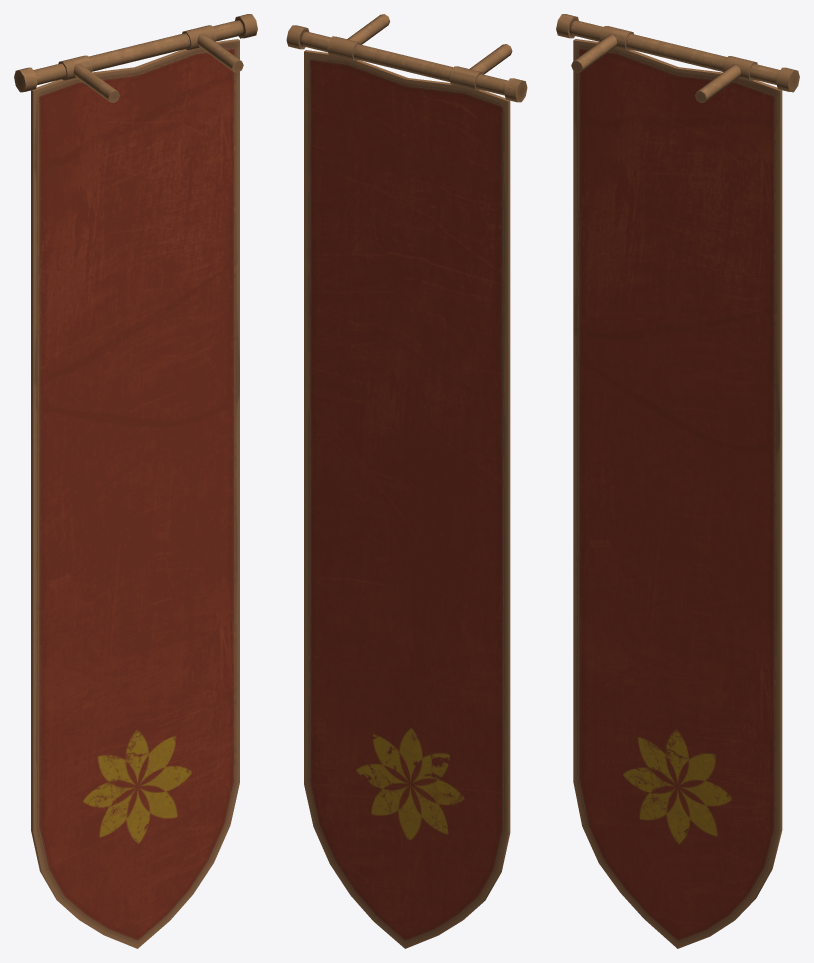
Rendered from ARC0510108.fbx.
3 views of the same model, side by side, from view 1: azimuth 30°, elevation 25°; view 2: azimuth 150°, elevation 25°; view 3: azimuth 330°, elevation 25° (orthographic).
Visible parts, largest first — view 1: smARC0510108; view 2: smARC0510108; view 3: smARC0510108.
Boxes of the visible parts, x1=… form: smARC0510108: x1=14, y1=14, x2=257, y2=948; smARC0510108: x1=286, y1=14, x2=527, y2=948; smARC0510108: x1=556, y1=14, x2=799, y2=948.
Size of the model in its own units: 103 by 385 by 35.13.
Materials: 1 (1 with a texture image).
